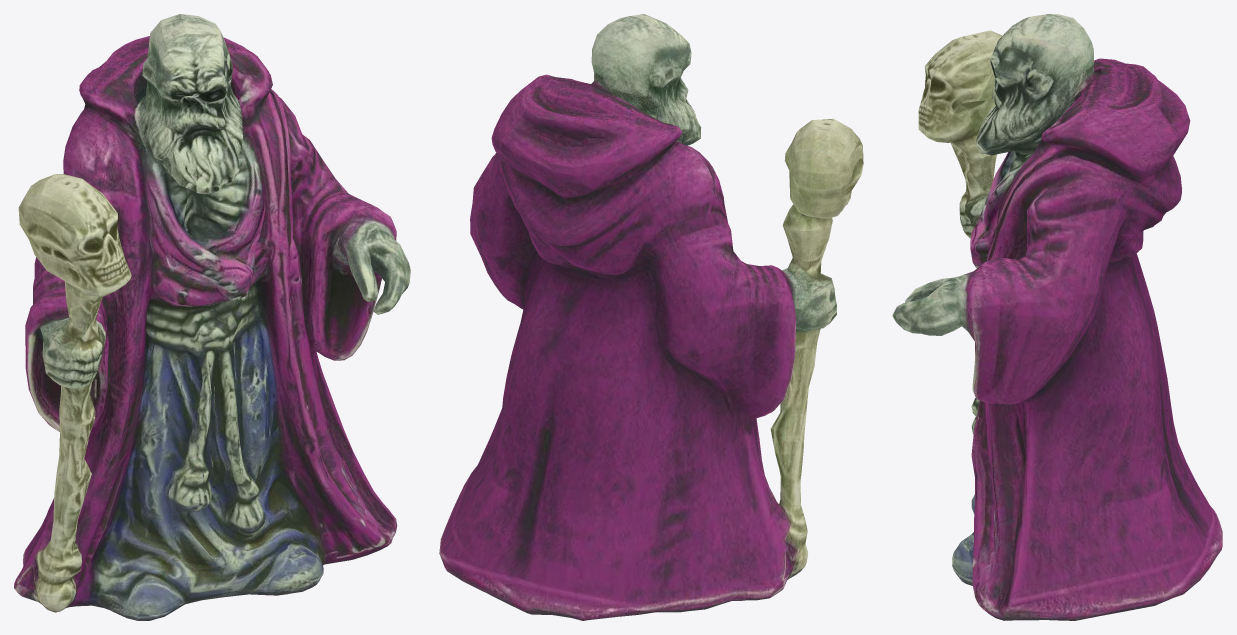
The model's file is lich.glb.
3 renders of one model, left to right at view 1: azimuth 30°, elevation 25°; view 2: azimuth 150°, elevation 25°; view 3: azimuth 270°, elevation 25°, orthographic. The views are drawn at different scales.
Size of the model in its own units: 1.36 by 1.91 by 1.08.
1 material, 1 textured.
